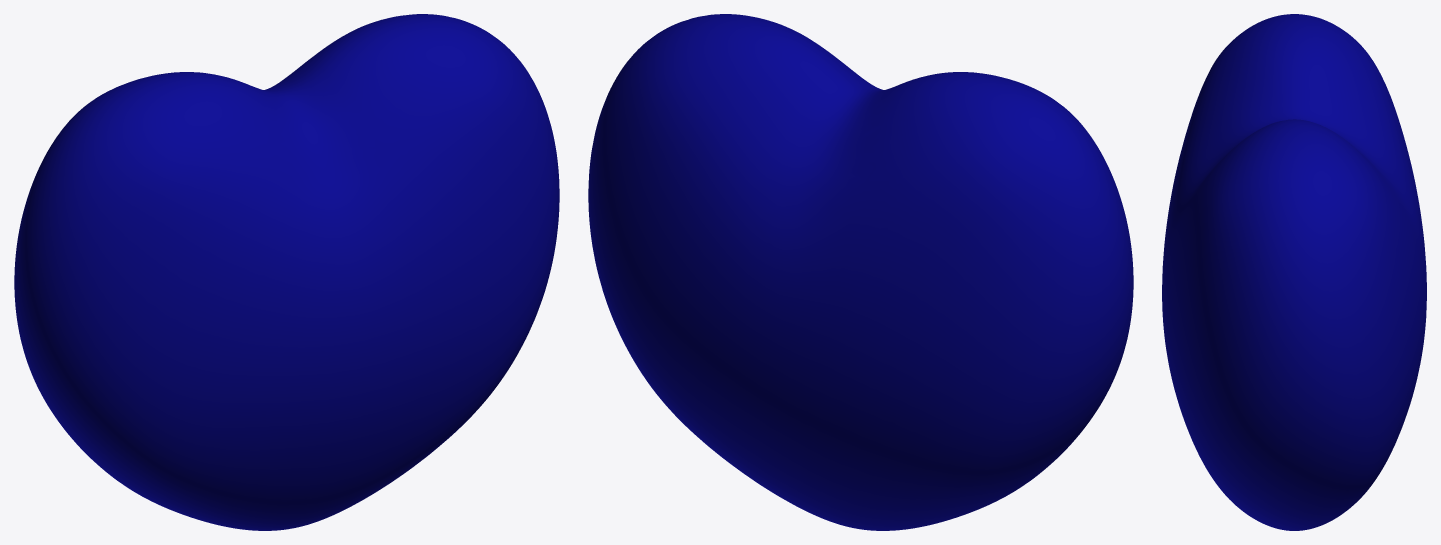
The model's file is heart.glb.
3 renders of one model, left to right at view 1: azimuth 30°, elevation 25°; view 2: azimuth 150°, elevation 25°; view 3: azimuth 270°, elevation 25°, orthographic. The views are drawn at different scales.
Visible parts, largest first — view 1: Heart; view 2: Heart; view 3: Heart.
Part boxes in pixels (x1=…): Heart: x1=14, y1=14, x2=559, y2=530; Heart: x1=588, y1=14, x2=1133, y2=530; Heart: x1=1162, y1=14, x2=1426, y2=530.
Bounding box in the file's own units: 1.97 × 1.7 × 0.9394.
